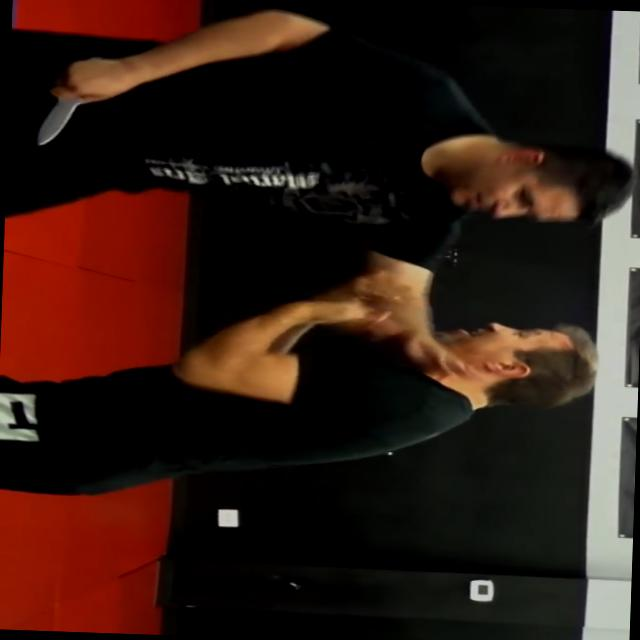knife: (29, 50, 111, 150)
